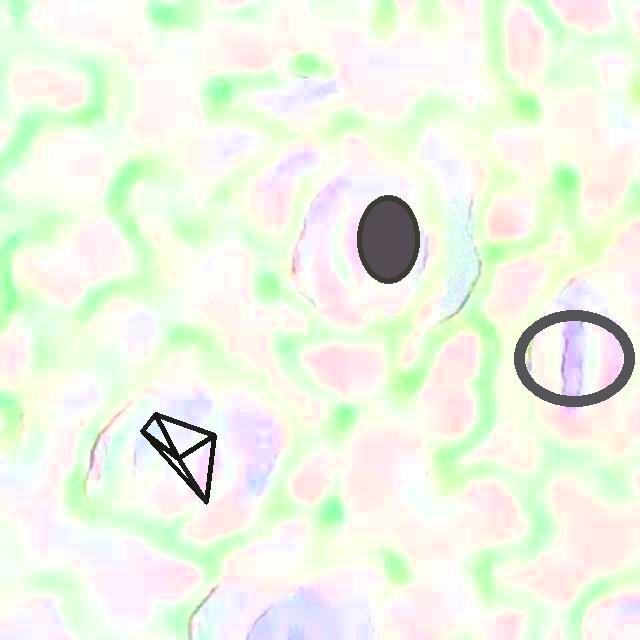close: (141, 412, 216, 503), (358, 195, 419, 283)
open: (514, 310, 633, 405)
